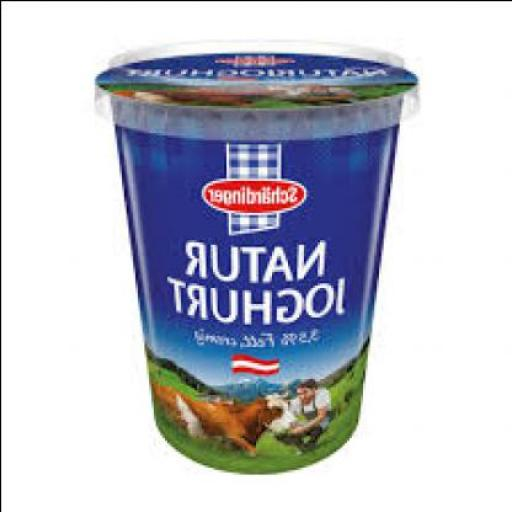plastic: (98, 36, 423, 469)
